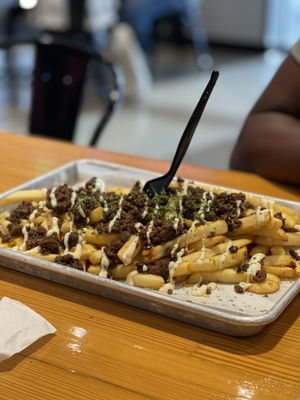burger: (141, 70, 220, 198)
